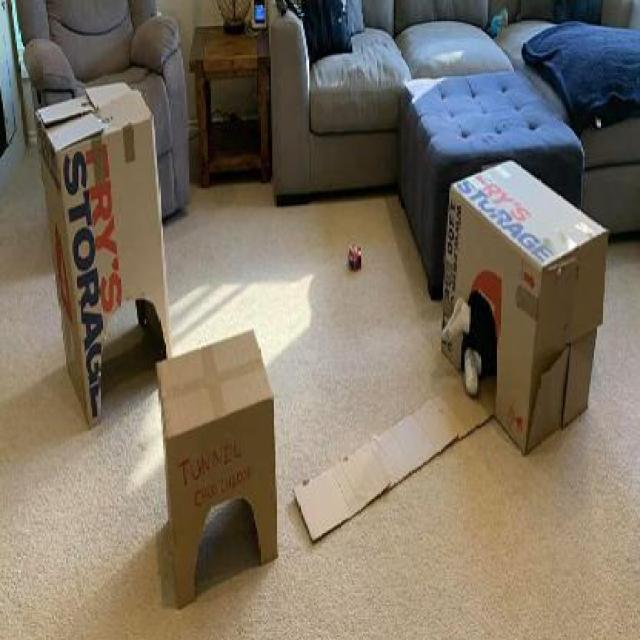box: (289, 161, 614, 570), (37, 75, 188, 424), (154, 304, 286, 602)
